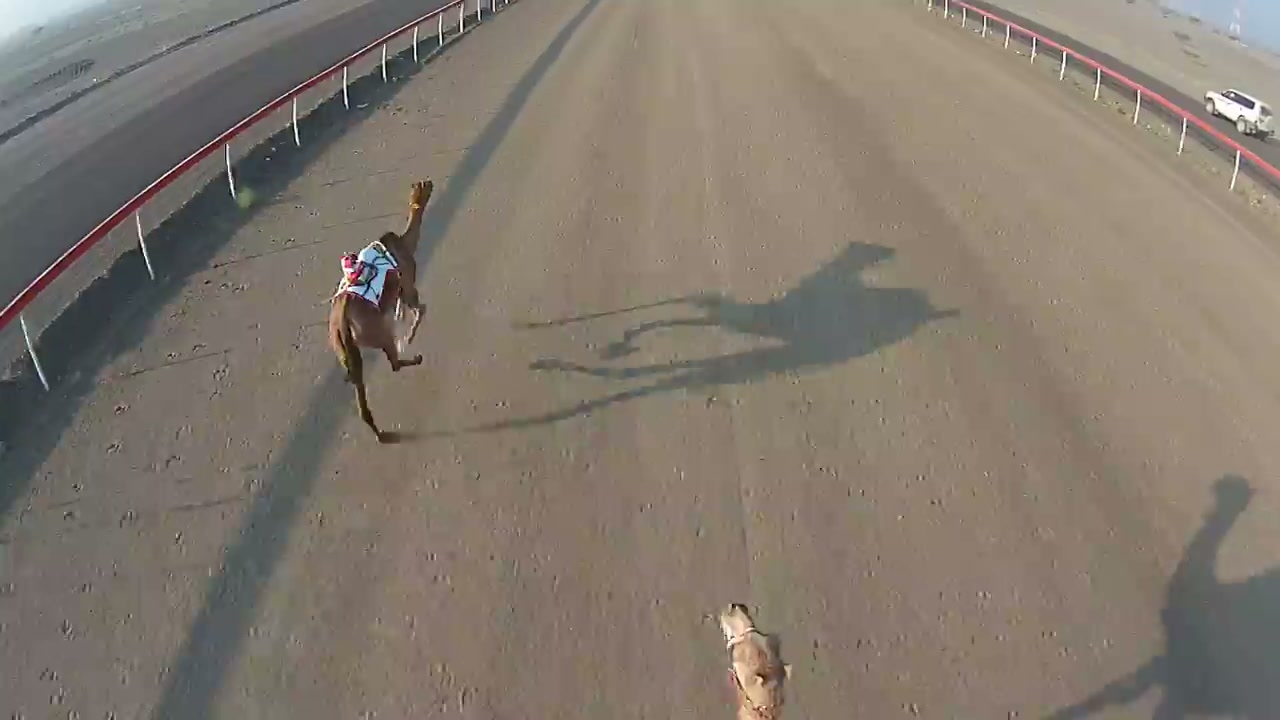animal_foot_print: (26, 306, 169, 713)
